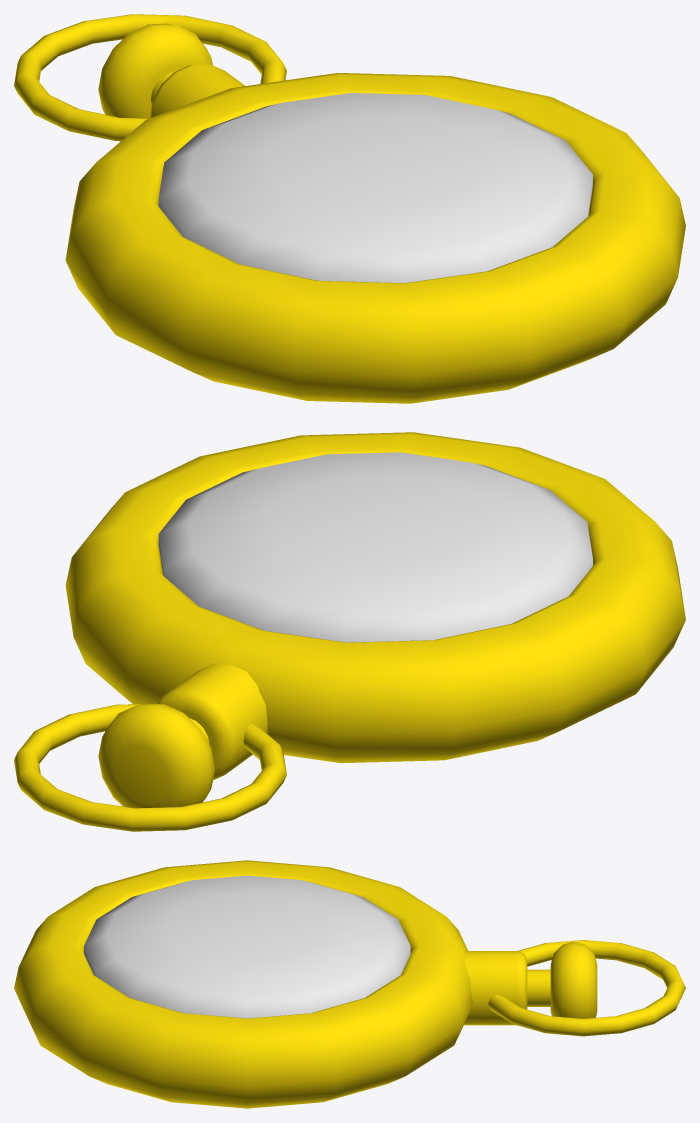
The model's file is PocketWatch.glb.
The picture shows the model from 3 angles, top to bottom: view 1: azimuth 30°, elevation 25°; view 2: azimuth 150°, elevation 25°; view 3: azimuth 270°, elevation 25°; orthographic projection. The views are drawn at different scales.
Parts seen in each view (by area): view 1: PocketWatch; view 2: PocketWatch; view 3: PocketWatch.
Boxes of the visible parts, <box> form: PocketWatch: <box>14,14,685,403</box>; PocketWatch: <box>14,432,685,831</box>; PocketWatch: <box>14,860,685,1108</box>.
Bounding box in the file's own units: 1 × 0.25 × 1.44.
